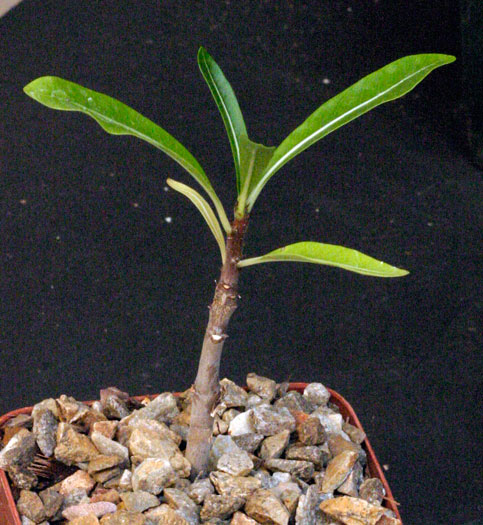Pachypodium meridionale: (144, 92, 304, 470)
